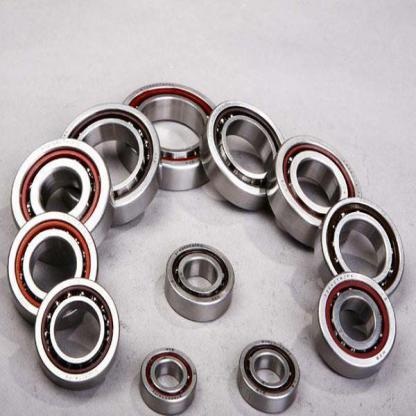FOD: (60, 100, 165, 224), (116, 76, 221, 192), (7, 138, 112, 246), (6, 208, 102, 324), (264, 134, 362, 247), (32, 276, 125, 390), (197, 98, 286, 213), (310, 268, 398, 382), (311, 194, 406, 298), (161, 240, 236, 326), (235, 337, 302, 413), (136, 344, 200, 415)
